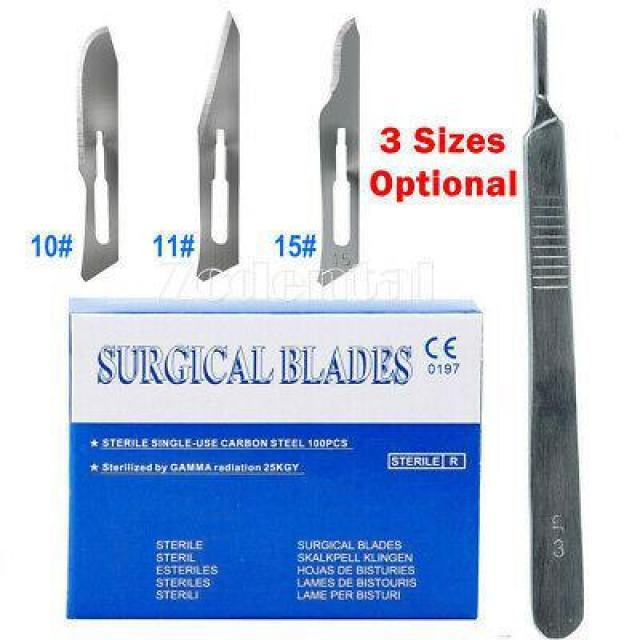Scalpel: (522, 4, 588, 638), (192, 8, 243, 283), (314, 13, 364, 288), (72, 22, 123, 284)
